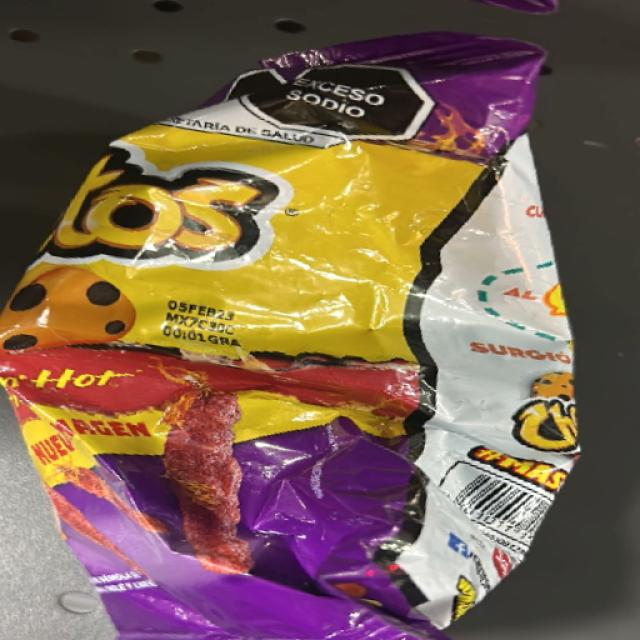cheetosFlaminHot: (38, 44, 514, 621)
